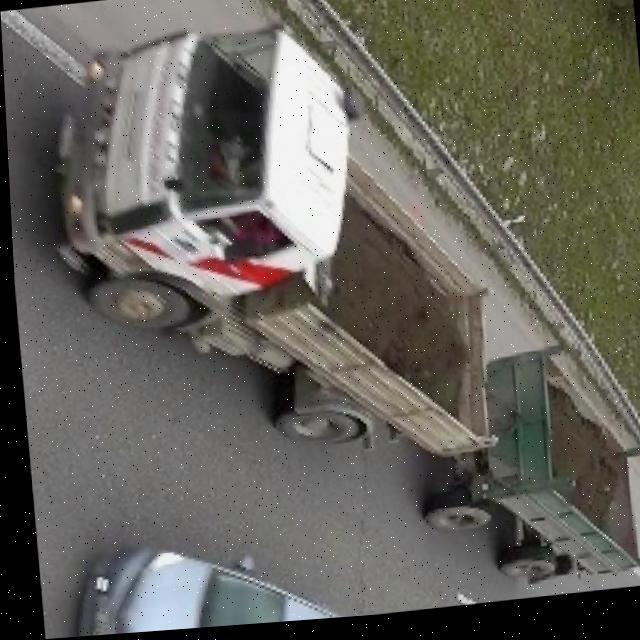truck: (23, 0, 640, 638)
